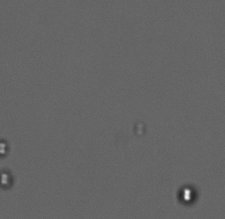Living Cell: (177, 185, 198, 205), (1, 168, 14, 191), (1, 140, 9, 159)
